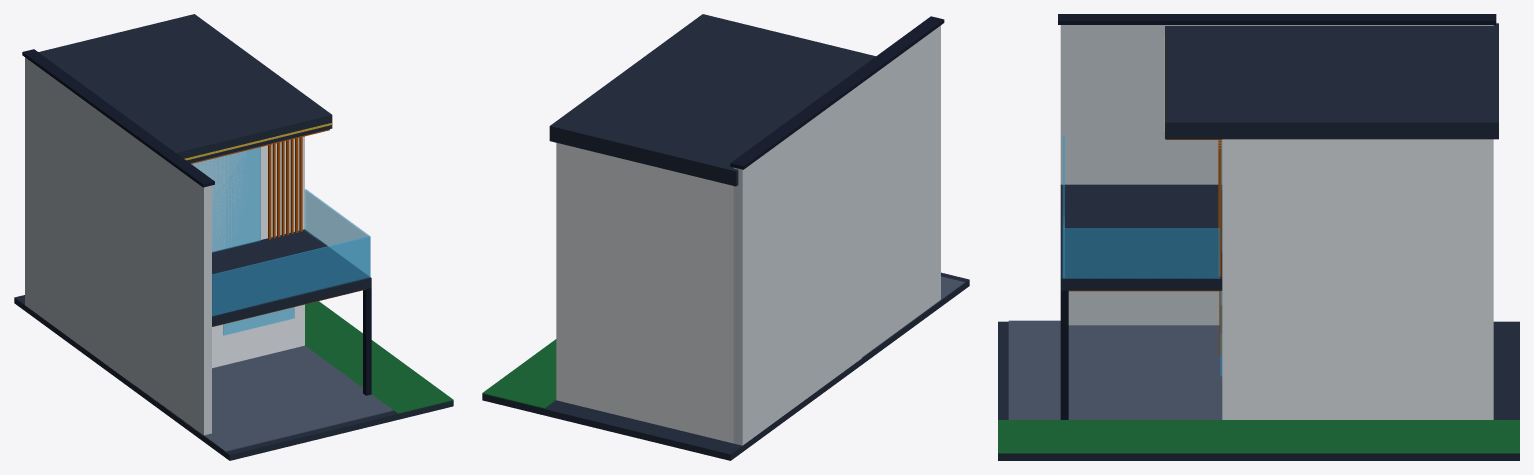
File: Modern_60sqm_House_Model.obj
3 renders of one model, left to right at view 1: azimuth 30°, elevation 25°; view 2: azimuth 150°, elevation 25°; view 3: azimuth 270°, elevation 25°, orthographic. The views are drawn at different scales.
Parts seen in each view (by area): view 1: Left_Side_Firewall, Modern_Parapet_Roof, Carport_Pavement, Terrace_Balcony_Slab, Second_Floor_Main, Terrace_Glass_Railing_Front, Right_Garden_Strip, Terrace_Sliding_Glass_Door, Ground_Floor_Main, Lot_Base, Facade_Teak_Louver, Firewall_Coping_Cap (+3 smaller); view 2: Left_Side_Firewall, Modern_Parapet_Roof, Ground_Floor_Main, Second_Floor_Main, Lot_Base, Firewall_Coping_Cap, Right_Garden_Strip; view 3: Ground_Floor_Main, Modern_Parapet_Roof, Second_Floor_Main, Left_Side_Firewall, Carport_Pavement, Right_Garden_Strip, Terrace_Balcony_Slab, Terrace_Glass_Railing_Right, Lot_Base, Firewall_Coping_Cap, Terrace_Support_Column, Facade_Teak_Louver.
Boxes of the visible parts, x1=… form: Left_Side_Firewall: x1=25, y1=57, x2=211, y2=435; Modern_Parapet_Roof: x1=38, y1=14, x2=332, y2=163; Carport_Pavement: x1=135, y1=345, x2=393, y2=451; Terrace_Balcony_Slab: x1=212, y1=229, x2=371, y2=326; Second_Floor_Main: x1=191, y1=136, x2=304, y2=251; Terrace_Glass_Railing_Front: x1=212, y1=236, x2=370, y2=315; Right_Garden_Strip: x1=305, y1=301, x2=453, y2=413; Terrace_Sliding_Glass_Door: x1=192, y1=147, x2=260, y2=252; Ground_Floor_Main: x1=212, y1=304, x2=304, y2=368; Lot_Base: x1=14, y1=295, x2=453, y2=460; Facade_Teak_Louver: x1=268, y1=137, x2=302, y2=239; Firewall_Coping_Cap: x1=22, y1=49, x2=214, y2=187; Left_Side_Firewall: x1=733, y1=25, x2=940, y2=445; Modern_Parapet_Roof: x1=549, y1=14, x2=875, y2=186; Ground_Floor_Main: x1=556, y1=270, x2=733, y2=443; Second_Floor_Main: x1=556, y1=142, x2=733, y2=313; Lot_Base: x1=482, y1=272, x2=969, y2=460; Firewall_Coping_Cap: x1=730, y1=16, x2=944, y2=169; Right_Garden_Strip: x1=482, y1=339, x2=556, y2=408; Ground_Floor_Main: x1=1222, y1=279, x2=1493, y2=419; Modern_Parapet_Roof: x1=1165, y1=23, x2=1498, y2=139; Second_Floor_Main: x1=1222, y1=139, x2=1493, y2=278; Left_Side_Firewall: x1=1060, y1=25, x2=1493, y2=325; Carport_Pavement: x1=1008, y1=320, x2=1222, y2=419; Right_Garden_Strip: x1=998, y1=420, x2=1519, y2=453; Terrace_Balcony_Slab: x1=1060, y1=184, x2=1222, y2=290; Terrace_Glass_Railing_Right: x1=1063, y1=228, x2=1219, y2=278; Lot_Base: x1=998, y1=321, x2=1519, y2=460; Firewall_Coping_Cap: x1=1058, y1=14, x2=1496, y2=24; Terrace_Support_Column: x1=1060, y1=290, x2=1068, y2=419; Facade_Teak_Louver: x1=1218, y1=140, x2=1221, y2=276.
Size of the model in its own units: 6.05 by 6.63 by 10.
